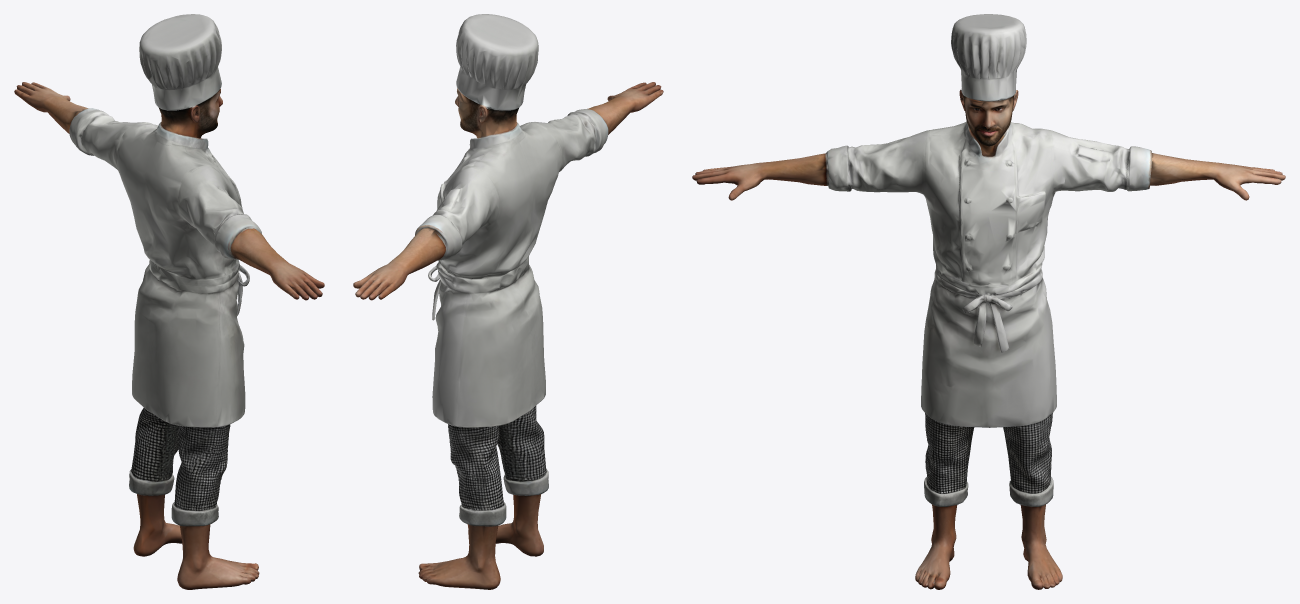
File: the-chef.glb
3 views of the same model, side by side, from view 1: azimuth 30°, elevation 25°; view 2: azimuth 150°, elevation 25°; view 3: azimuth 270°, elevation 25° (orthographic).
Parts seen in each view (by area): view 1: the-chef; view 2: the-chef; view 3: the-chef.
Boxes of the visible parts, x1,y1,x2,y2 form: the-chef: (14,14,324,589); the-chef: (353,14,663,589); the-chef: (692,14,1285,589).
Size of the model in its own units: 0.1832 by 0.9783 by 0.9559.
Materials: 1 (1 with a texture image).
